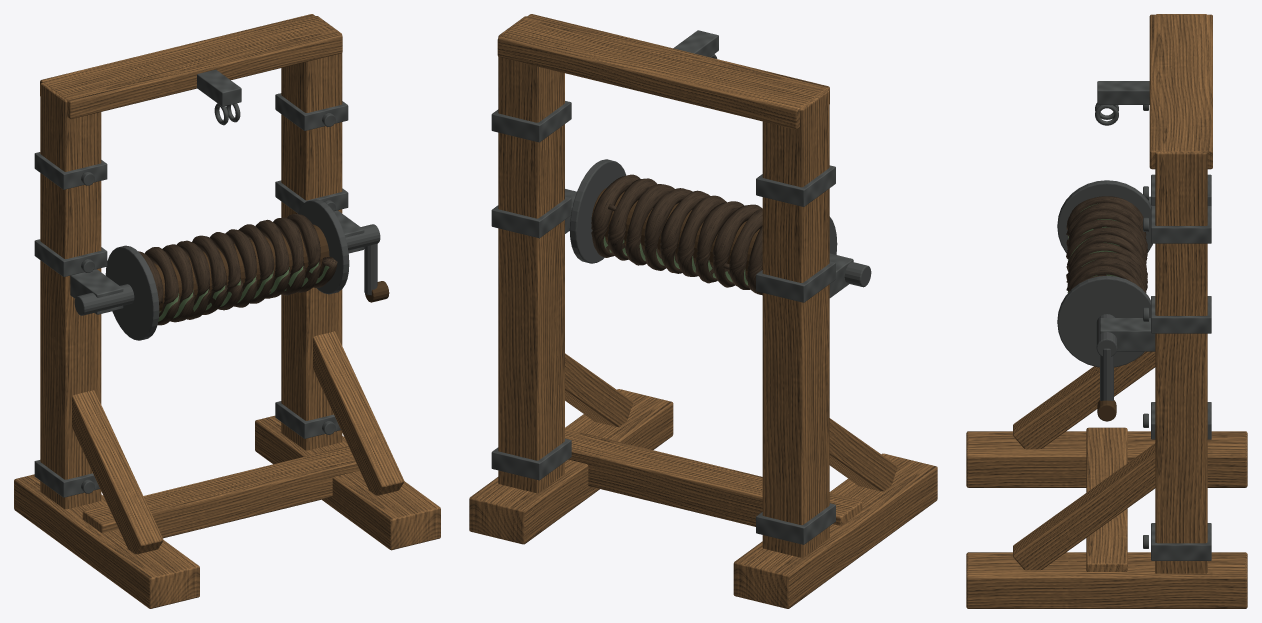
Rendered from winch.glb.
3 views of the same model, side by side, from view 1: azimuth 30°, elevation 25°; view 2: azimuth 150°, elevation 25°; view 3: azimuth 270°, elevation 25° (orthographic). The views are drawn at different scales.
Parts seen in each view (by area): view 1: Housing, MovingAssembly; view 2: Housing, MovingAssembly; view 3: Housing, MovingAssembly.
Boxes of the visible parts, x1,y1,x2,y2 form: Housing: [14, 14, 440, 608]; MovingAssembly: [74, 199, 389, 340]; Housing: [469, 14, 937, 608]; MovingAssembly: [569, 159, 871, 295]; Housing: [966, 14, 1247, 608]; MovingAssembly: [1057, 180, 1152, 421].
Size of the model in its own units: 1.32 by 1.82 by 1.02.
5 materials, 4 textured.
